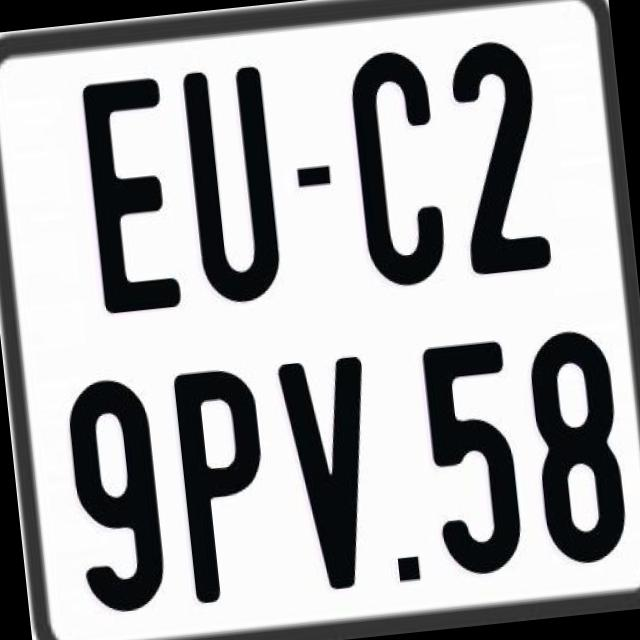2: (447, 35, 558, 282)
5: (416, 337, 522, 576)
8: (524, 322, 630, 568)
9: (60, 374, 166, 616)
C: (347, 48, 455, 295)
E: (76, 72, 178, 310)
P: (168, 362, 278, 602)
U: (178, 66, 282, 312)
V: (276, 351, 388, 592)
